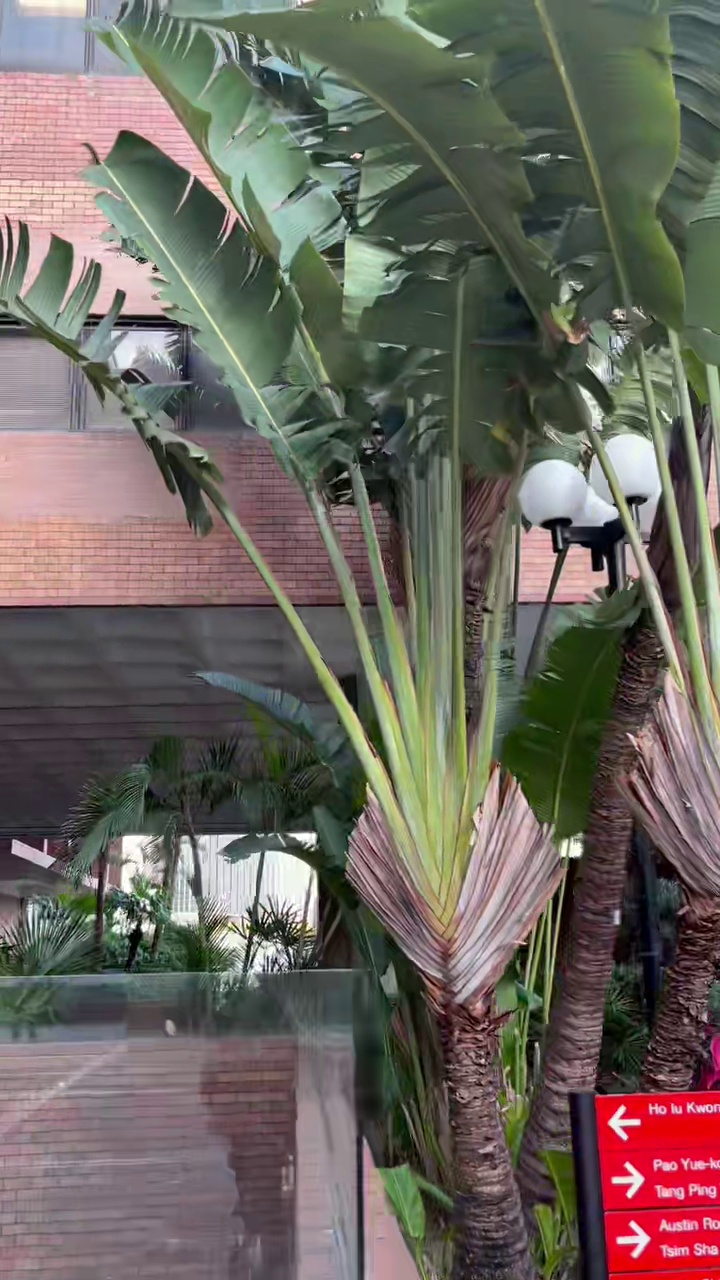Travellers-tree: (86, 0, 686, 1279)
